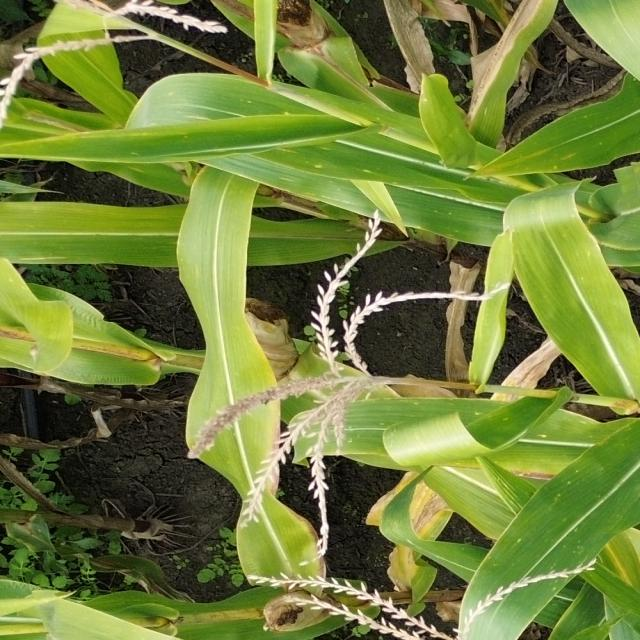gray-leaf-spot: (242, 116, 382, 174), (265, 161, 369, 204)
northern-leaf-blight: (474, 6, 528, 136)
southern-leaf-blight: (529, 484, 592, 576), (337, 397, 391, 450)
